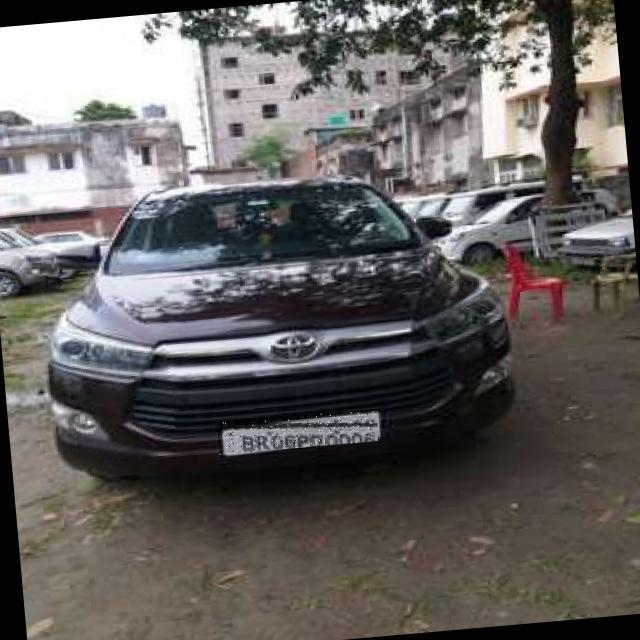Plate: (218, 410, 380, 456)
